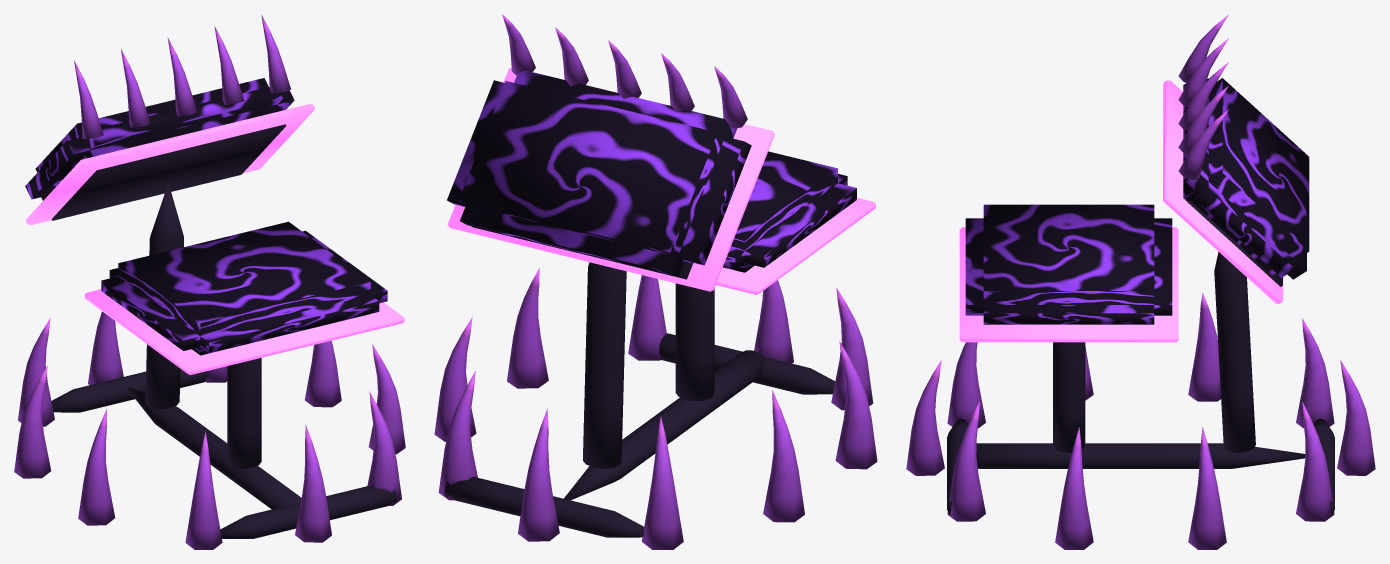
File: VoidBench.fbx
The picture shows the model from 3 angles, left to right: view 1: azimuth 30°, elevation 25°; view 2: azimuth 150°, elevation 25°; view 3: azimuth 270°, elevation 25°; orthographic projection. The views are drawn at different scales.
Visible parts, largest first — view 1: VoidBench, VoidBench_Glow; view 2: VoidBench, VoidBench_Glow; view 3: VoidBench, VoidBench_Glow.
Part boxes in pixels (x1,y1,x2,y2): VoidBench: [14, 15, 405, 549]; VoidBench_Glow: [25, 103, 404, 374]; VoidBench: [434, 14, 877, 549]; VoidBench_Glow: [447, 67, 875, 294]; VoidBench: [906, 14, 1375, 549]; VoidBench_Glow: [959, 80, 1283, 342].
Size of the model in its own units: 308 by 366 by 379.
Materials: 2 (1 with a texture image).
